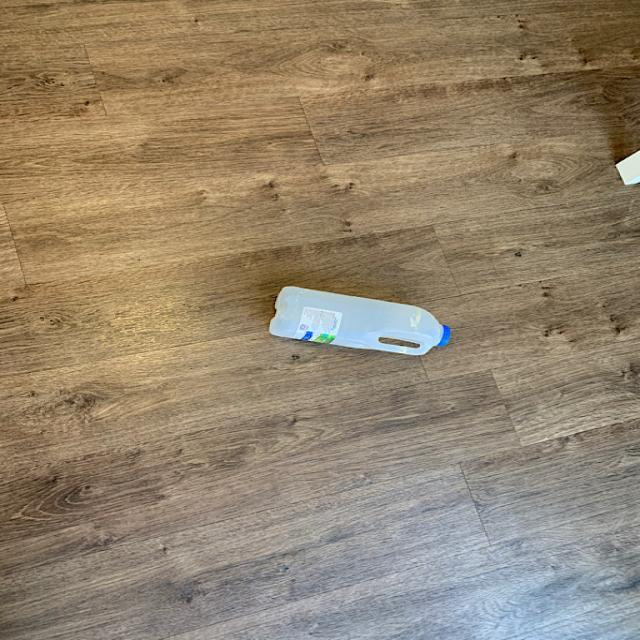litter: (263, 284, 457, 363)
